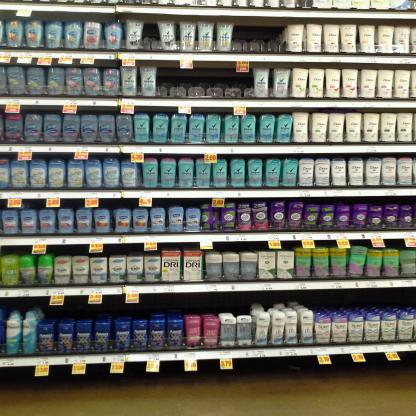Void: (160, 65, 247, 100), (145, 292, 244, 309), (234, 24, 284, 53), (316, 292, 410, 303)
